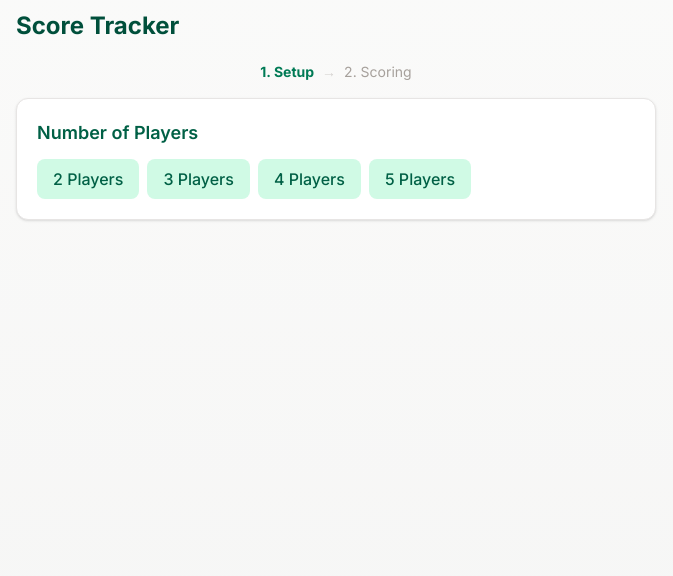
Test: ScoreTracker › player setup › shows name inputs after selecting player count
The width and height of the screenshot is (673, 576).
Click the button "3 Players" at {"x": 199, "y": 179}, box [147,159,250,199]
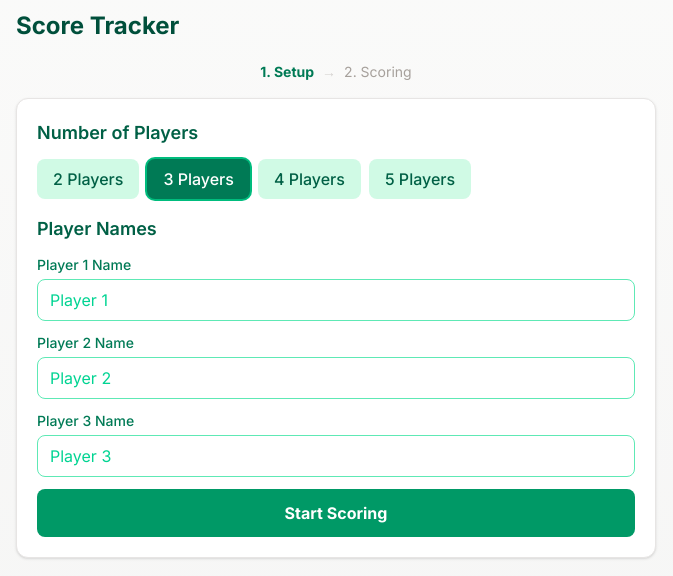
Check: the number of fields labelled "Player 1 Name" is 3, box [37,279,635,321]; [37,357,635,399]; [37,435,635,477]
